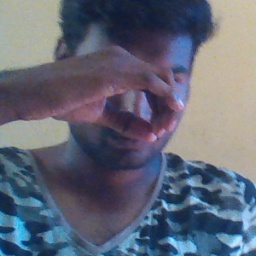O: (54, 42, 193, 152)
